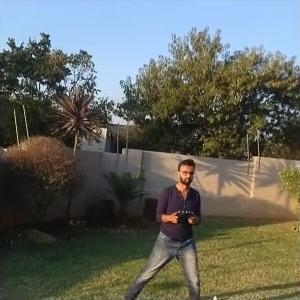follow: (124, 153, 203, 299)
